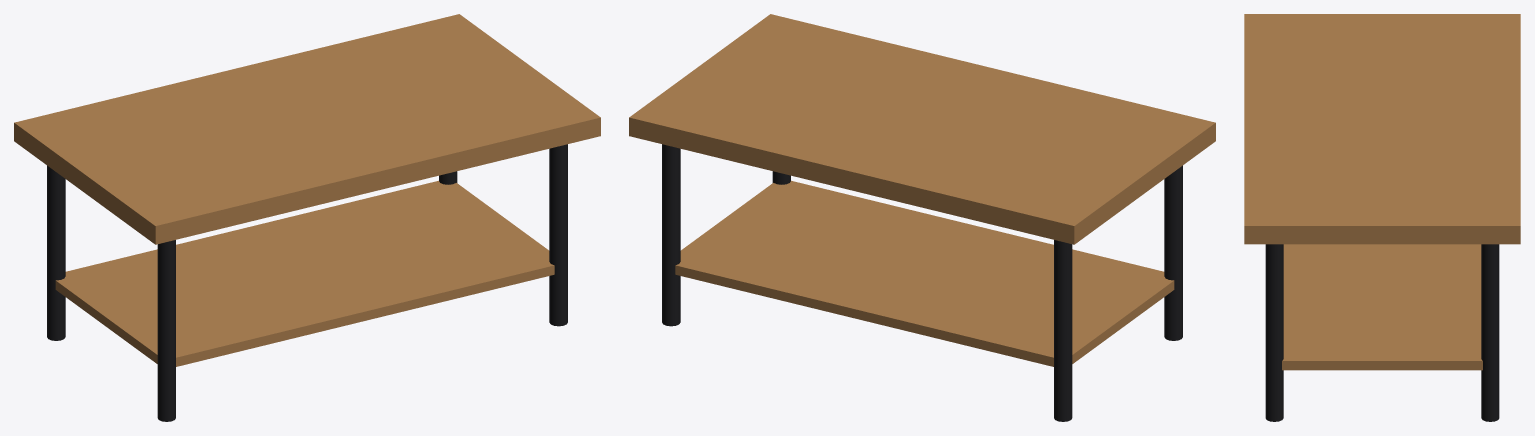
Rendered from coffee-table.glb.
3 renders of one model, left to right at view 1: azimuth 30°, elevation 25°; view 2: azimuth 150°, elevation 25°; view 3: azimuth 270°, elevation 25°, orthographic. The views are drawn at different scales.
Visible parts, largest first — view 1: Coffee table; view 2: Coffee table; view 3: Coffee table.
Boxes of the visible parts, x1,y1,x2,y2 form: Coffee table: (14,14,600,421); Coffee table: (629,14,1215,421); Coffee table: (1244,14,1520,421).
Bounding box in the file's own units: 1 × 0.45 × 0.55.
